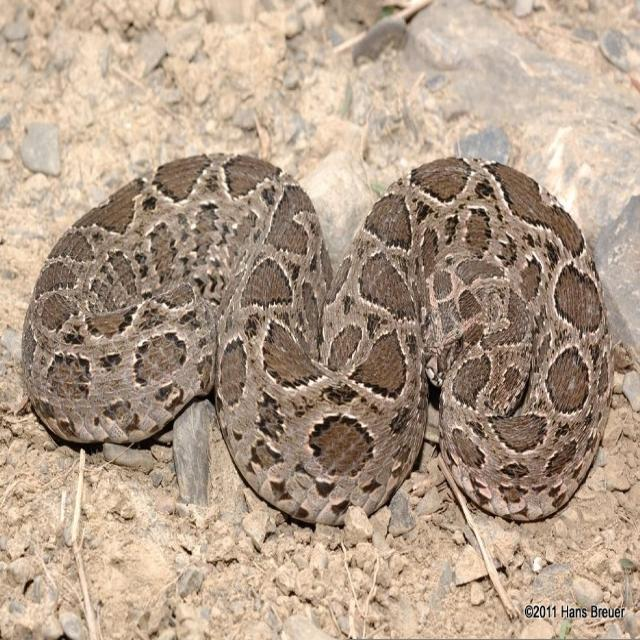Snake: (22, 138, 616, 524)
